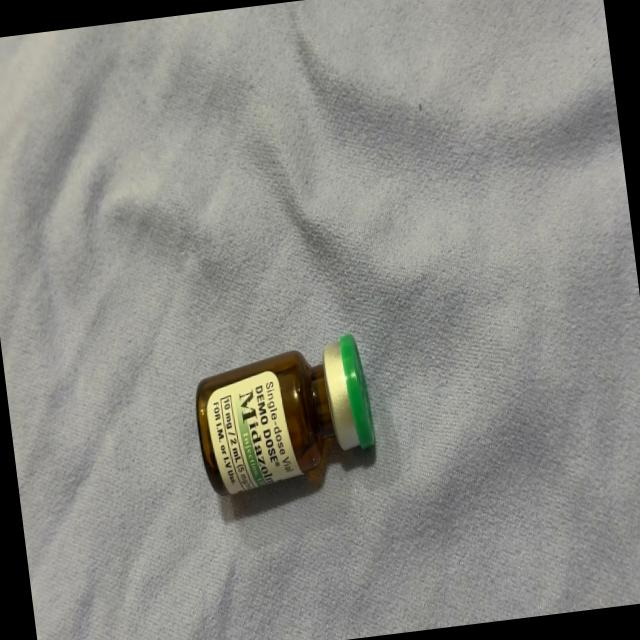midazolm: (192, 333, 377, 497)
